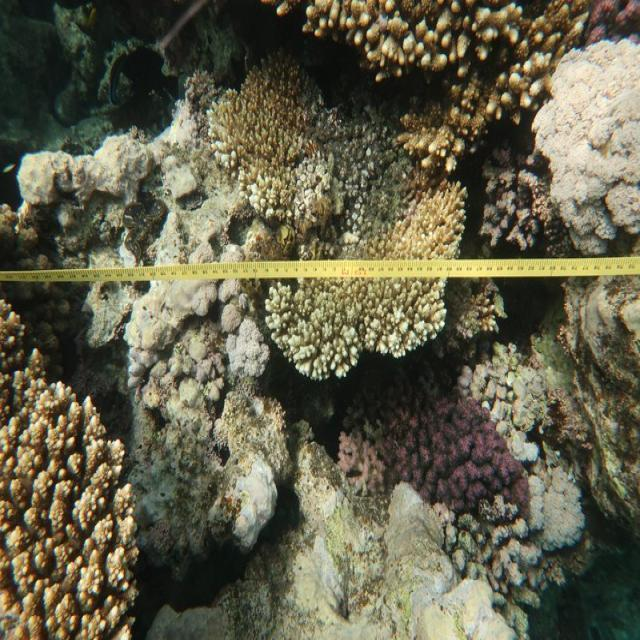Bleached Coral: (525, 30, 639, 253)
Healthy Coral: (261, 0, 585, 152), (0, 295, 137, 640), (377, 395, 540, 518)
